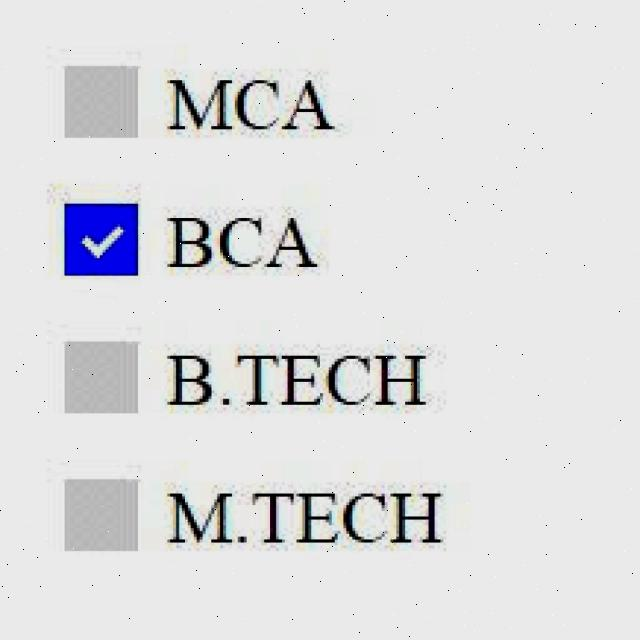checkbox: (63, 64, 138, 140), (63, 342, 140, 416), (62, 478, 137, 552), (64, 203, 138, 275)
label: (162, 480, 454, 549), (159, 347, 436, 417), (162, 67, 344, 142), (161, 203, 323, 280)
